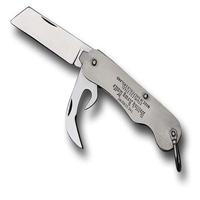knife: (10, 4, 189, 175)
